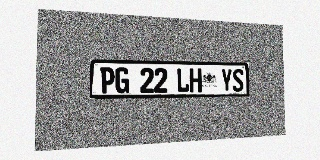2: (140, 68, 154, 93), (154, 68, 167, 93)
G: (115, 67, 129, 93)
H: (189, 68, 202, 92)
L: (176, 68, 189, 92)
P: (100, 67, 115, 93)
S: (232, 69, 244, 92)
Y: (221, 69, 232, 92)
